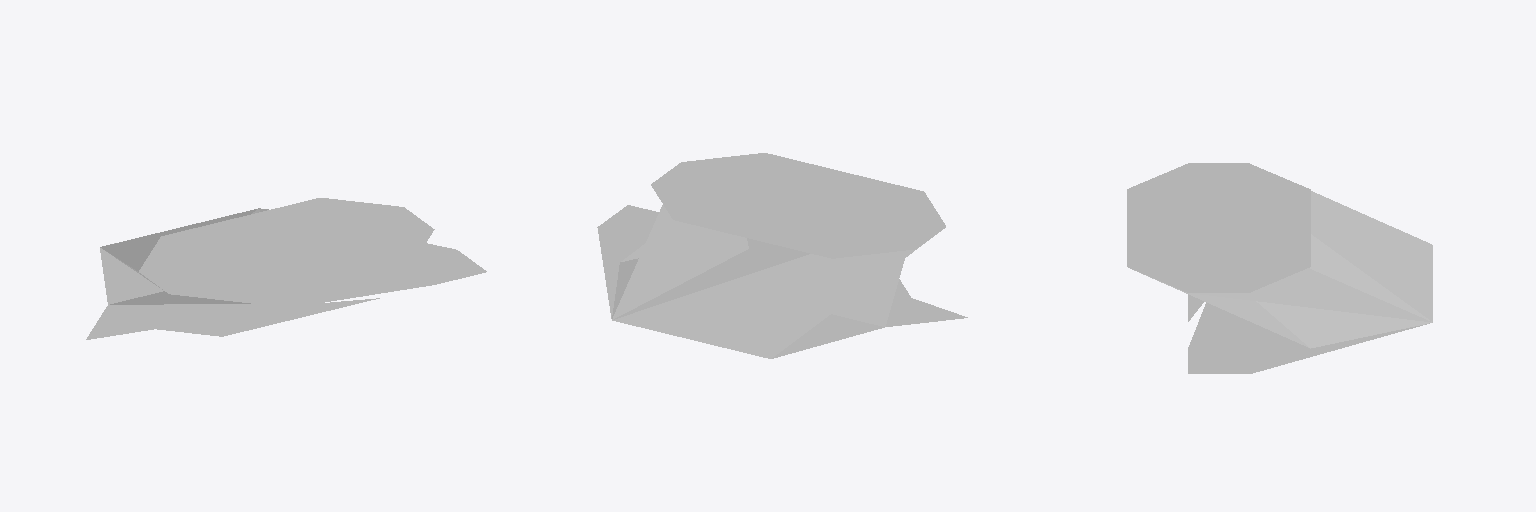
File: Desk Lamp 5.obj
The picture shows the model from 3 angles: view 1: azimuth 30°, elevation 25°; view 2: azimuth 150°, elevation 25°; view 3: azimuth 270°, elevation 25°; orthographic projection.
Size of the model in its own units: 7 by 1 by 5.